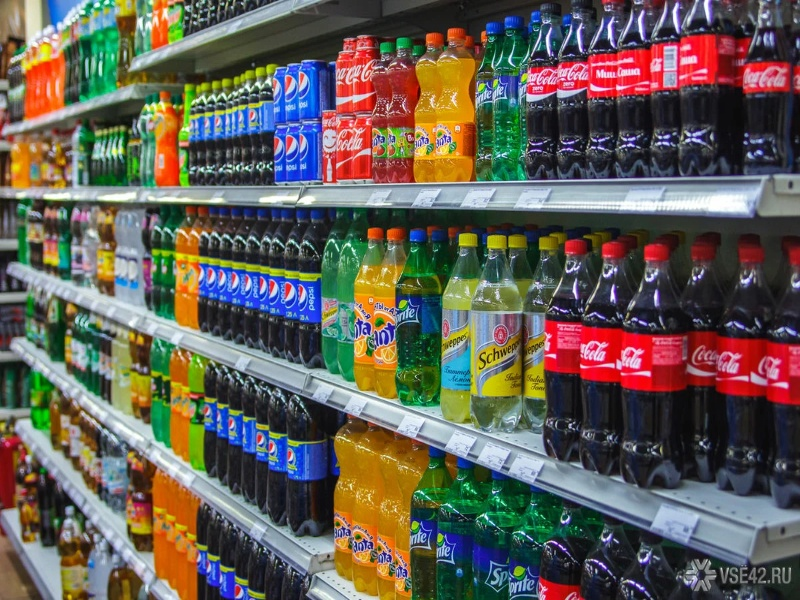lemonade: (625, 245, 691, 491), (717, 253, 773, 502), (469, 237, 528, 437), (541, 245, 593, 461), (584, 242, 624, 477), (398, 232, 441, 408), (435, 26, 478, 184), (287, 389, 330, 540), (375, 226, 411, 400), (354, 422, 389, 600), (443, 234, 475, 421), (495, 21, 531, 182), (349, 231, 383, 395), (327, 413, 358, 592), (472, 20, 504, 185), (336, 225, 366, 387), (385, 32, 417, 182), (415, 26, 445, 182), (300, 215, 328, 367), (269, 384, 290, 525), (265, 208, 284, 361), (252, 382, 273, 520), (282, 208, 300, 359)
